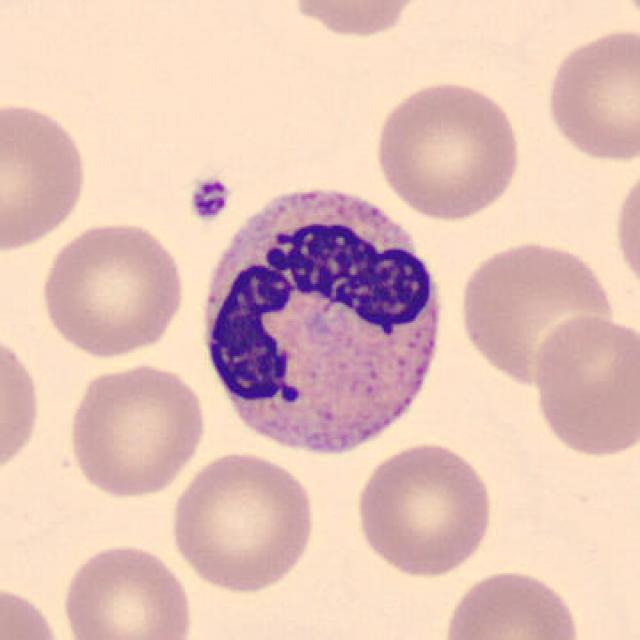Neutrophil: (190, 173, 459, 472)
Platelets: (183, 172, 235, 225)
RBC: (453, 234, 619, 388), (165, 448, 320, 594), (370, 76, 524, 222), (35, 217, 188, 360), (350, 437, 498, 580), (62, 360, 210, 500), (528, 308, 638, 462), (0, 97, 92, 255), (540, 23, 640, 166), (56, 539, 197, 640), (437, 566, 585, 640), (0, 326, 44, 484), (282, 0, 433, 41), (610, 159, 640, 303), (0, 580, 69, 640), (610, 0, 640, 35)
